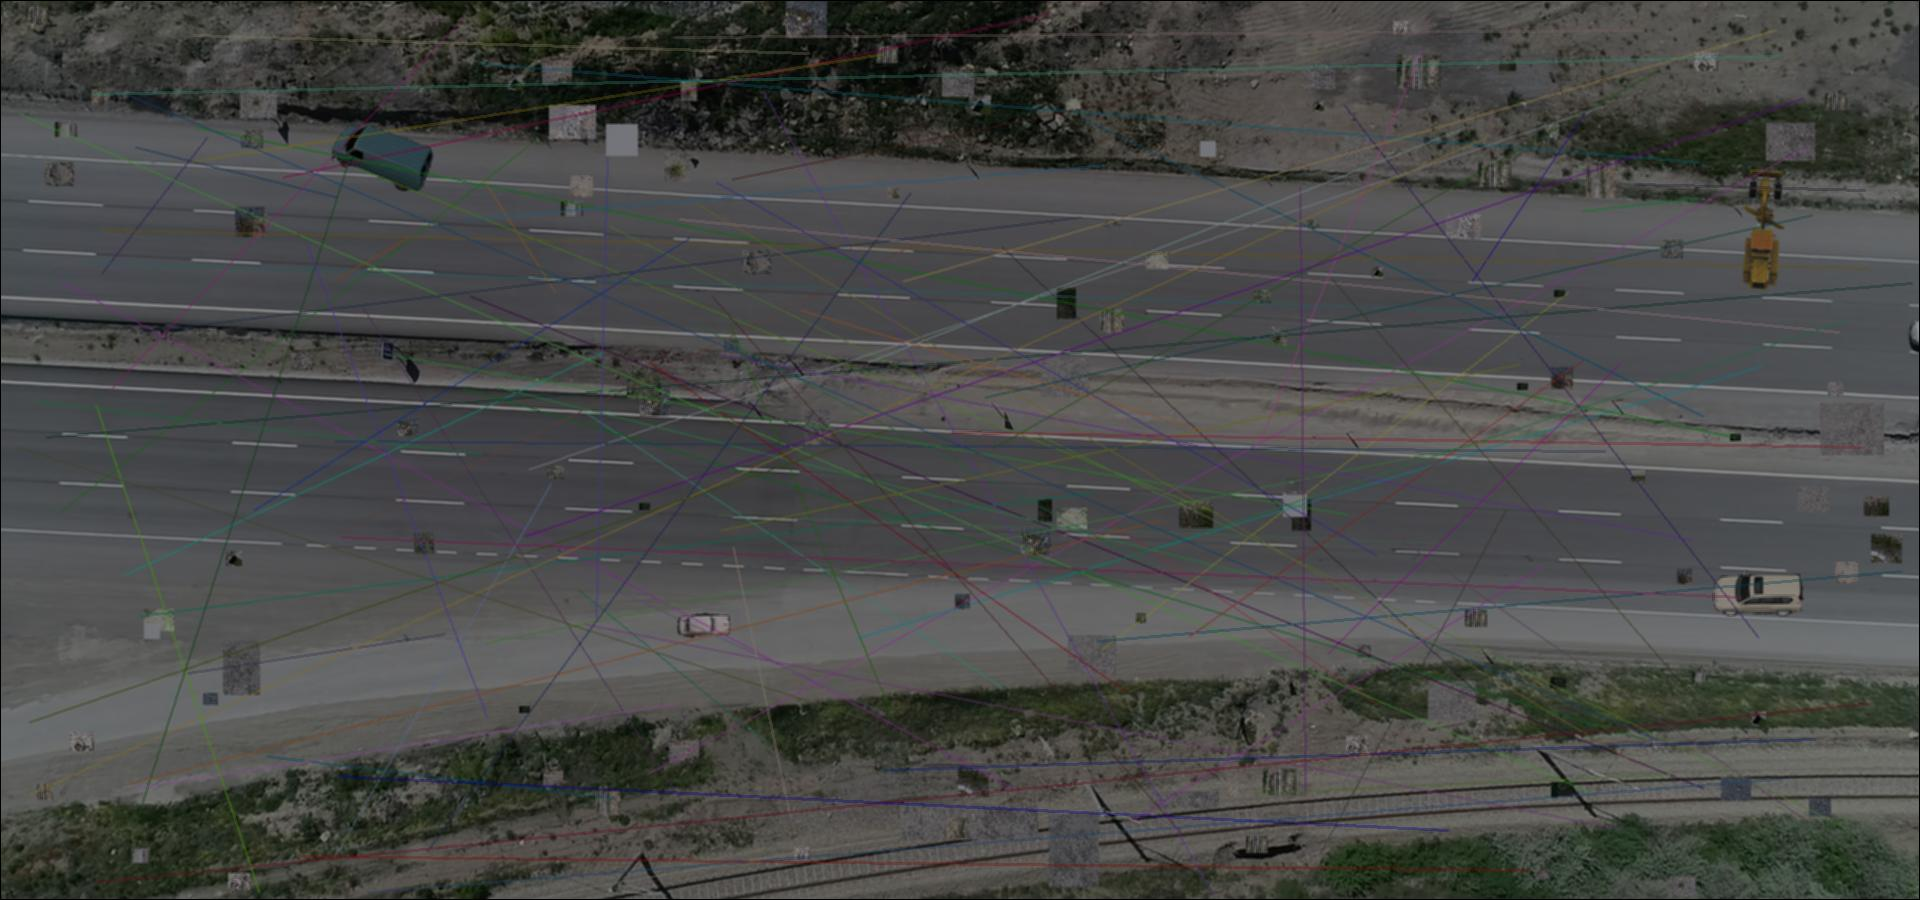arac: (332, 124, 433, 191), (1740, 167, 1787, 290), (1708, 571, 1809, 616), (675, 613, 733, 638)
